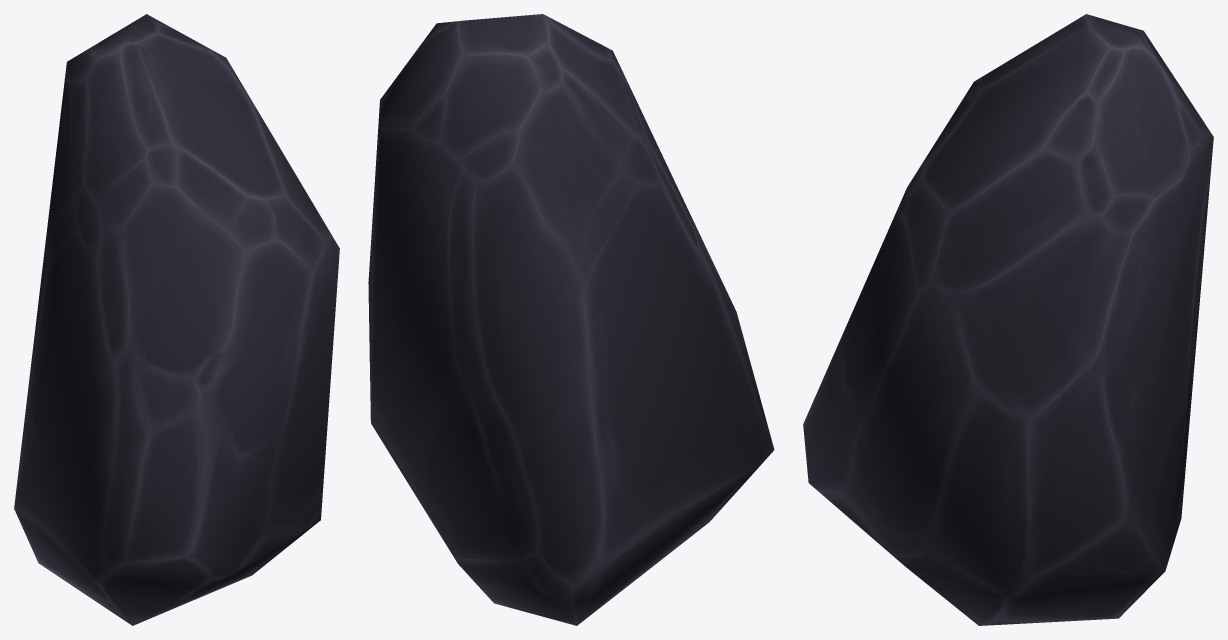
The model's file is Stone_2_Variation_3.fbx.
3 renders of one model, left to right at view 1: azimuth 30°, elevation 25°; view 2: azimuth 150°, elevation 25°; view 3: azimuth 270°, elevation 25°, orthographic. The views are drawn at different scales.
Parts seen in each view (by area): view 1: Stone_2_Variation_3; view 2: Stone_2_Variation_3; view 3: Stone_2_Variation_3.
Part boxes in pixels (x1=…): Stone_2_Variation_3: x1=14, y1=14, x2=339, y2=625; Stone_2_Variation_3: x1=368, y1=14, x2=774, y2=625; Stone_2_Variation_3: x1=803, y1=14, x2=1213, y2=625.
Bounding box in the file's own units: 82.94 × 146 × 92.49.
